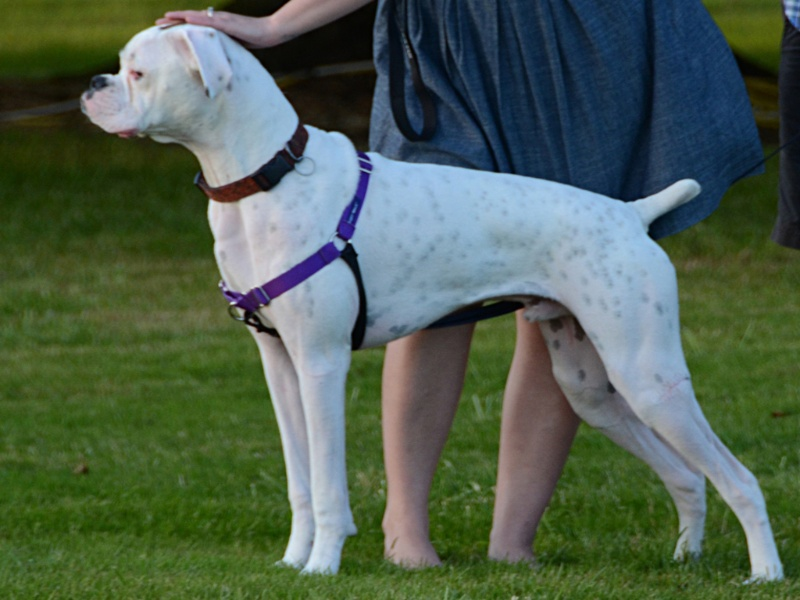dog: (74, 20, 784, 588)
